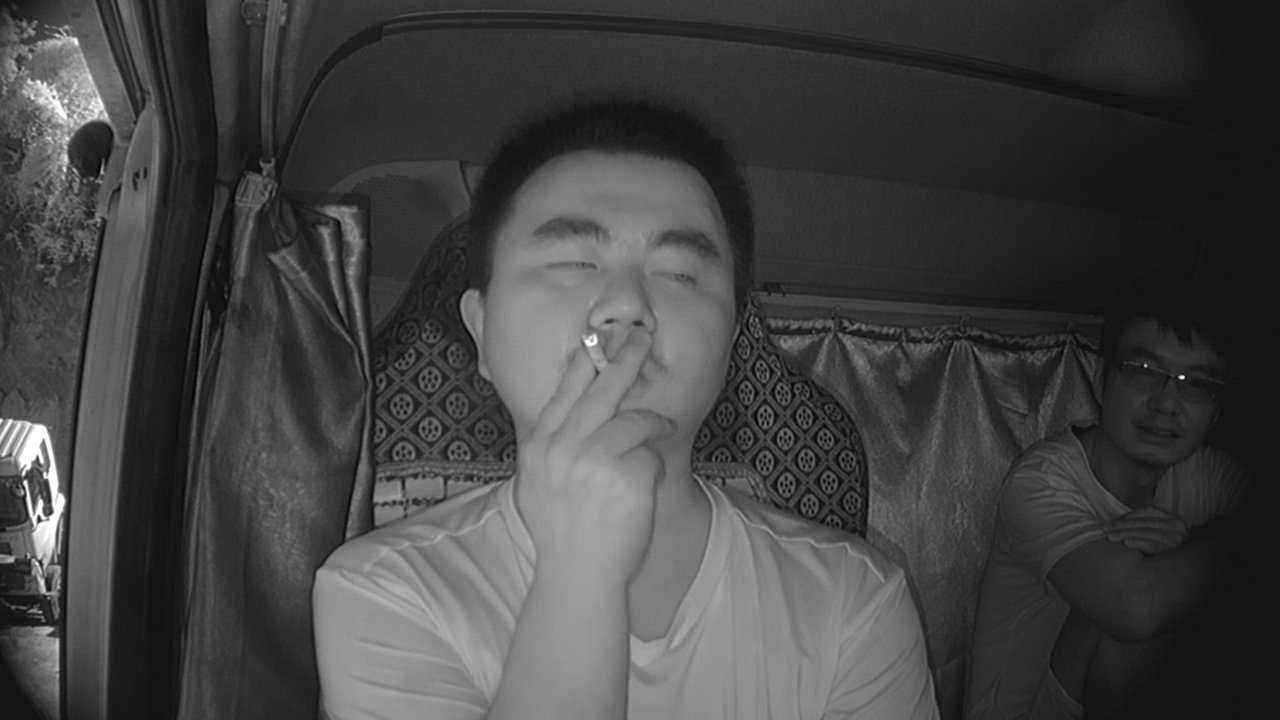hand: (519, 335, 688, 545)
